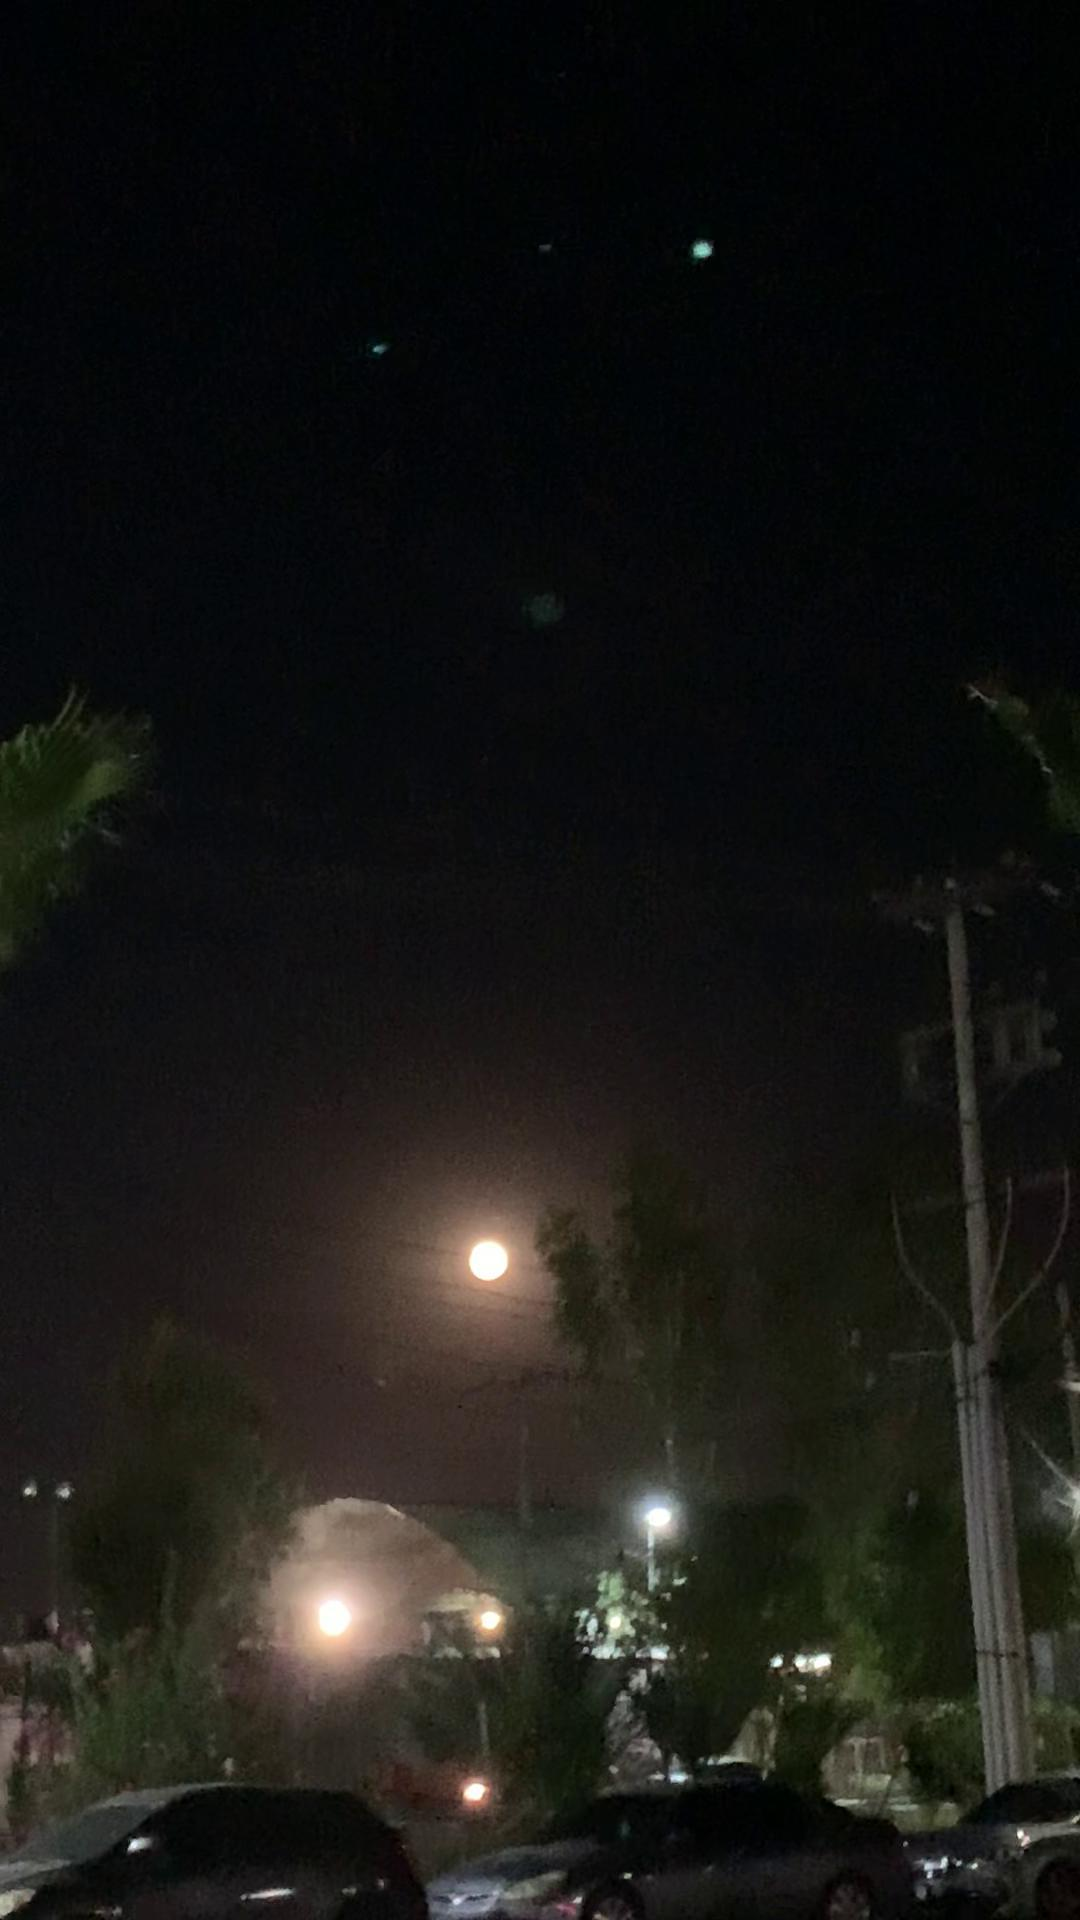moon: (444, 1236, 533, 1312)
